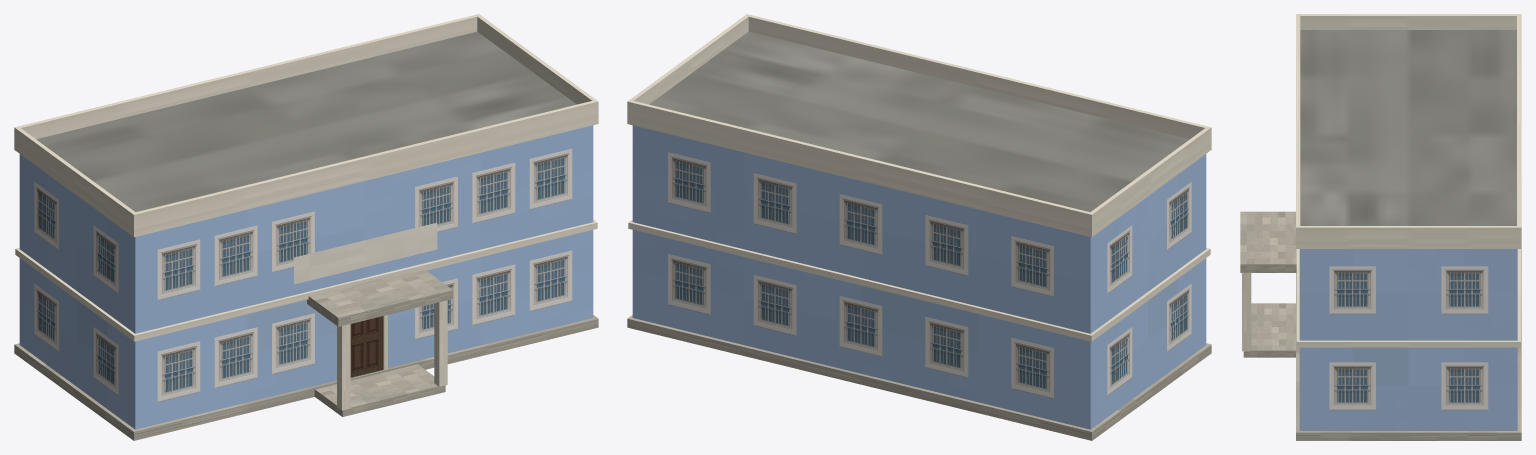
The model's file is school-sky-far.glb.
3 renders of one model, left to right at view 1: azimuth 30°, elevation 25°; view 2: azimuth 150°, elevation 25°; view 3: azimuth 270°, elevation 25°, orthographic. The views are drawn at different scales.
Visible parts, largest first — view 1: school-sky-far, sign_1; view 2: school-sky-far; view 3: school-sky-far.
Boxes of the visible parts, <box> form: school-sky-far: <box>14,14,598,440</box>; sign_1: <box>294,222,437,284</box>; school-sky-far: <box>627,14,1211,440</box>; school-sky-far: <box>1240,14,1521,440</box>.
Size of the model in its own units: 16.24 by 7.55 by 9.02.
Materials: 1 (1 with a texture image).
